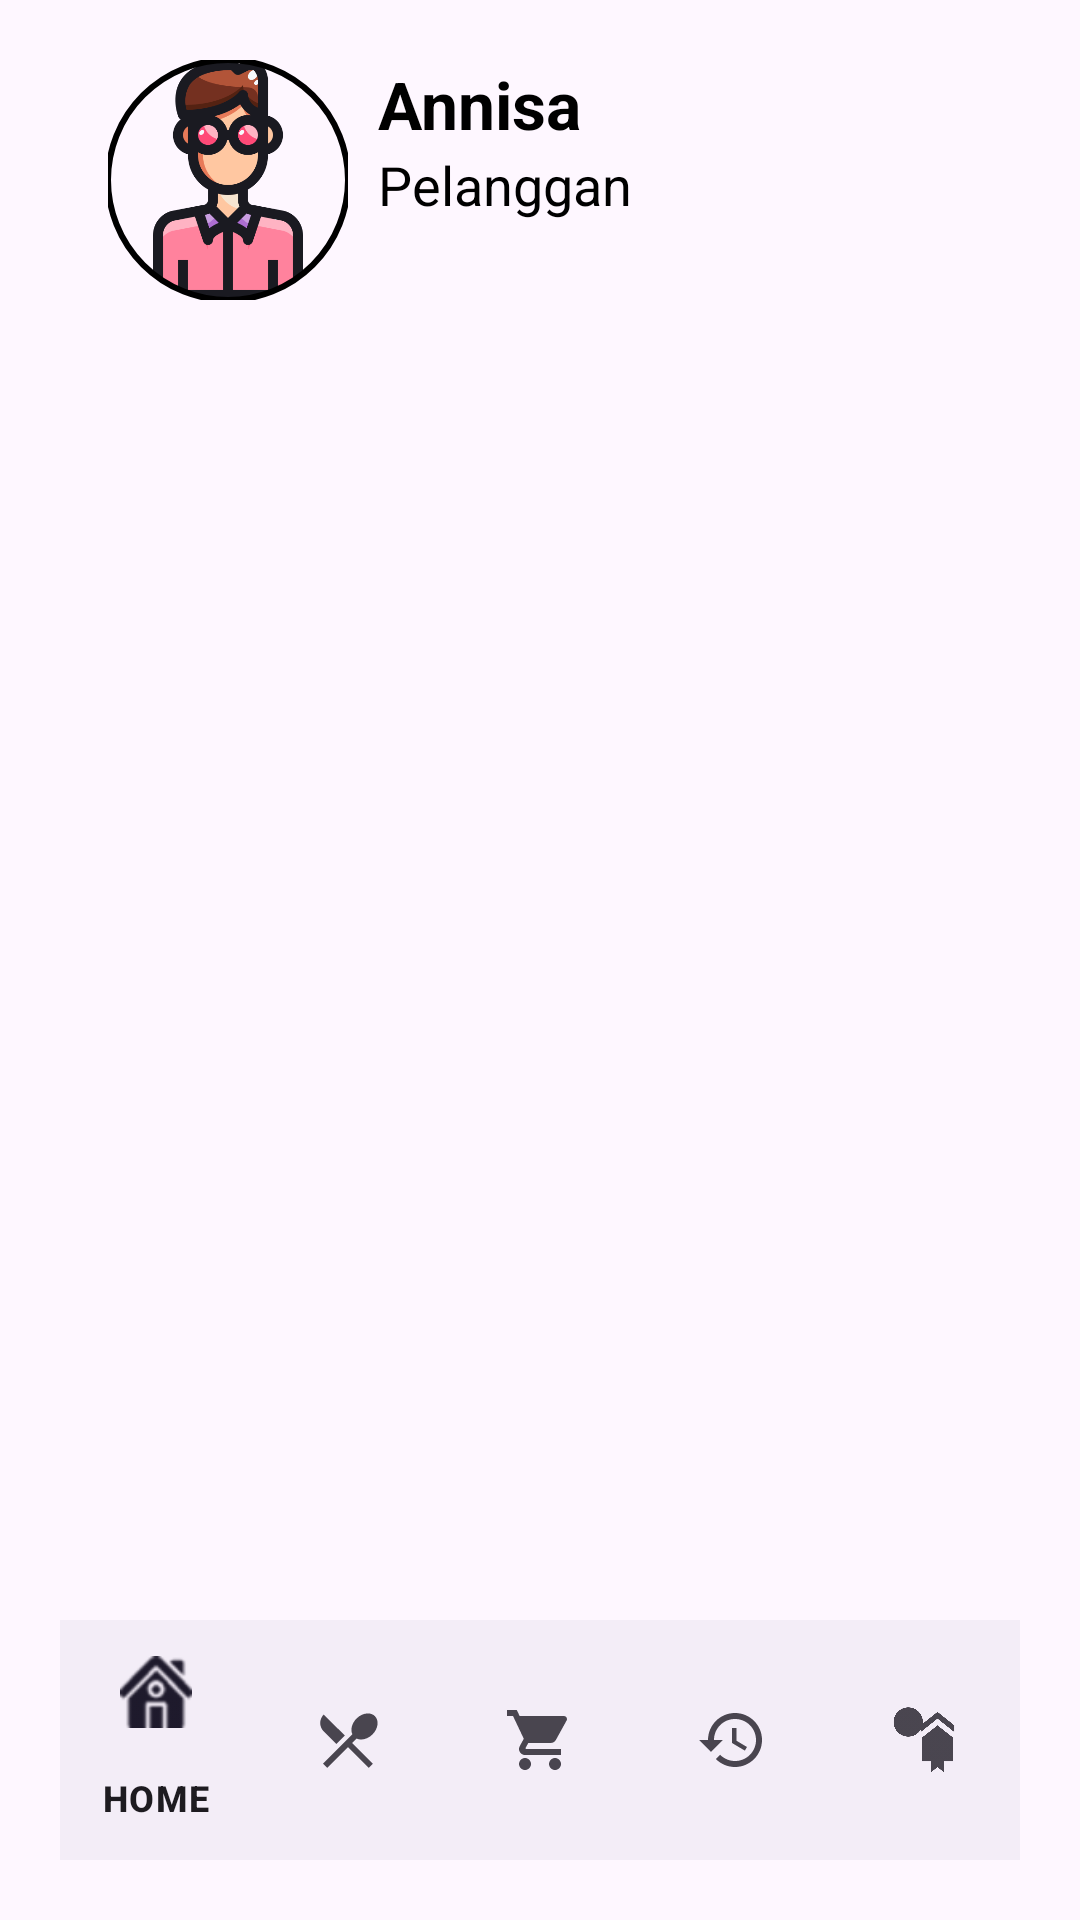

Locate icon controls on the screen. Image size 1080px x 1920px, boxes as (x1, y1, x2, y2).
man: (108, 60, 348, 300)
